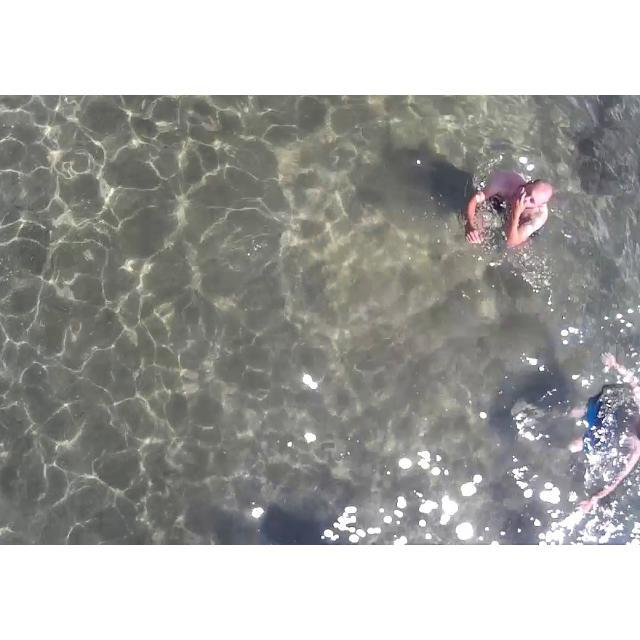human: (526, 331, 637, 539), (465, 158, 557, 260)
